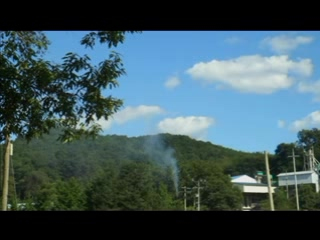smoke: (145, 133, 181, 197)
